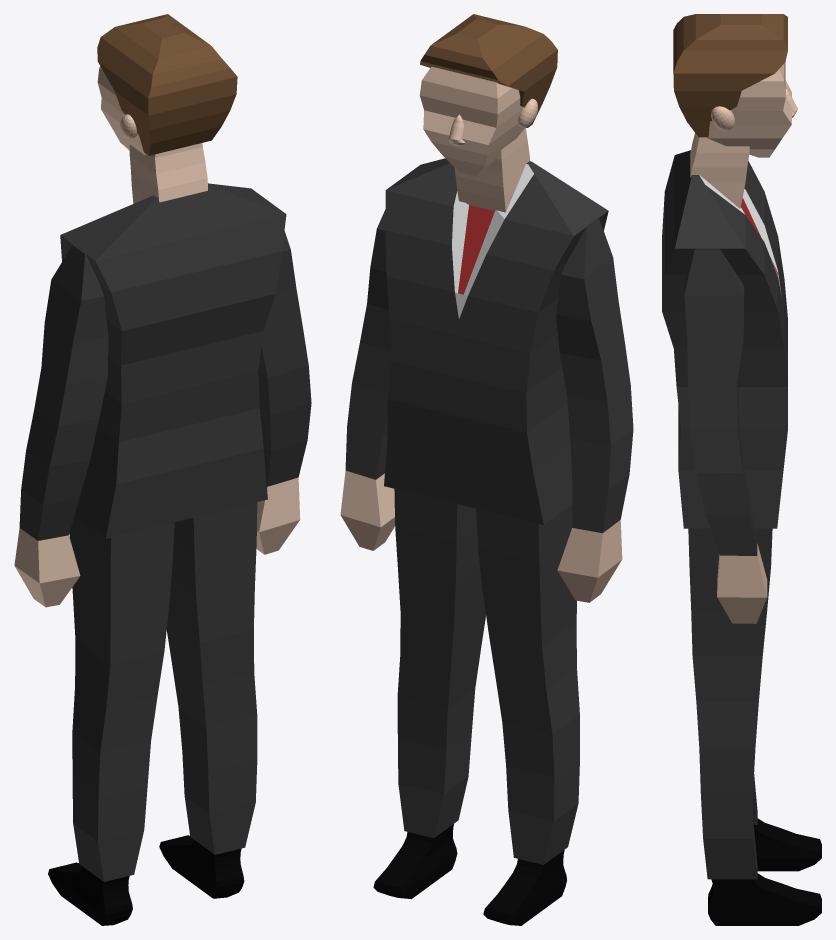
Rendered from BusinessMan.fbx.
3 renders of one model, left to right at view 1: azimuth 30°, elevation 25°; view 2: azimuth 150°, elevation 25°; view 3: azimuth 270°, elevation 25°, orthographic.
Visible parts, largest first — view 1: Body, Legs, Arms, Hair, Feet, Neck, Head; view 2: Body, Legs, Arms, Head, Hair, Feet, Neck; view 3: Body, Legs, Arms, Hair, Feet, Head, Neck, Ears.
Part boxes in pixels (x1=…): Body: x1=60, y1=183, x2=286, y2=538; Legs: x1=69, y1=502, x2=257, y2=881; Arms: x1=14, y1=231, x2=311, y2=607; Hair: x1=97, y1=14, x2=237, y2=155; Feet: x1=48, y1=835, x2=244, y2=925; Neck: x1=129, y1=143, x2=207, y2=203; Head: x1=97, y1=66, x2=146, y2=155; Body: x1=384, y1=158, x2=608, y2=524; Legs: x1=394, y1=489, x2=579, y2=864; Arms: x1=340, y1=209, x2=633, y2=602; Head: x1=419, y1=66, x2=524, y2=175; Hair: x1=420, y1=14, x2=557, y2=127; Feet: x1=373, y1=824, x2=566, y2=925; Neck: x1=454, y1=127, x2=530, y2=212; Body: x1=662, y1=150, x2=787, y2=528; Legs: x1=688, y1=528, x2=772, y2=879; Arms: x1=684, y1=249, x2=767, y2=623; Hair: x1=673, y1=14, x2=787, y2=137; Feet: x1=708, y1=818, x2=821, y2=925; Head: x1=707, y1=62, x2=791, y2=157; Neck: x1=690, y1=133, x2=749, y2=208; Ears: x1=711, y1=106, x2=734, y2=130.
Size of the model in its own units: 129 by 406 by 67.11.
